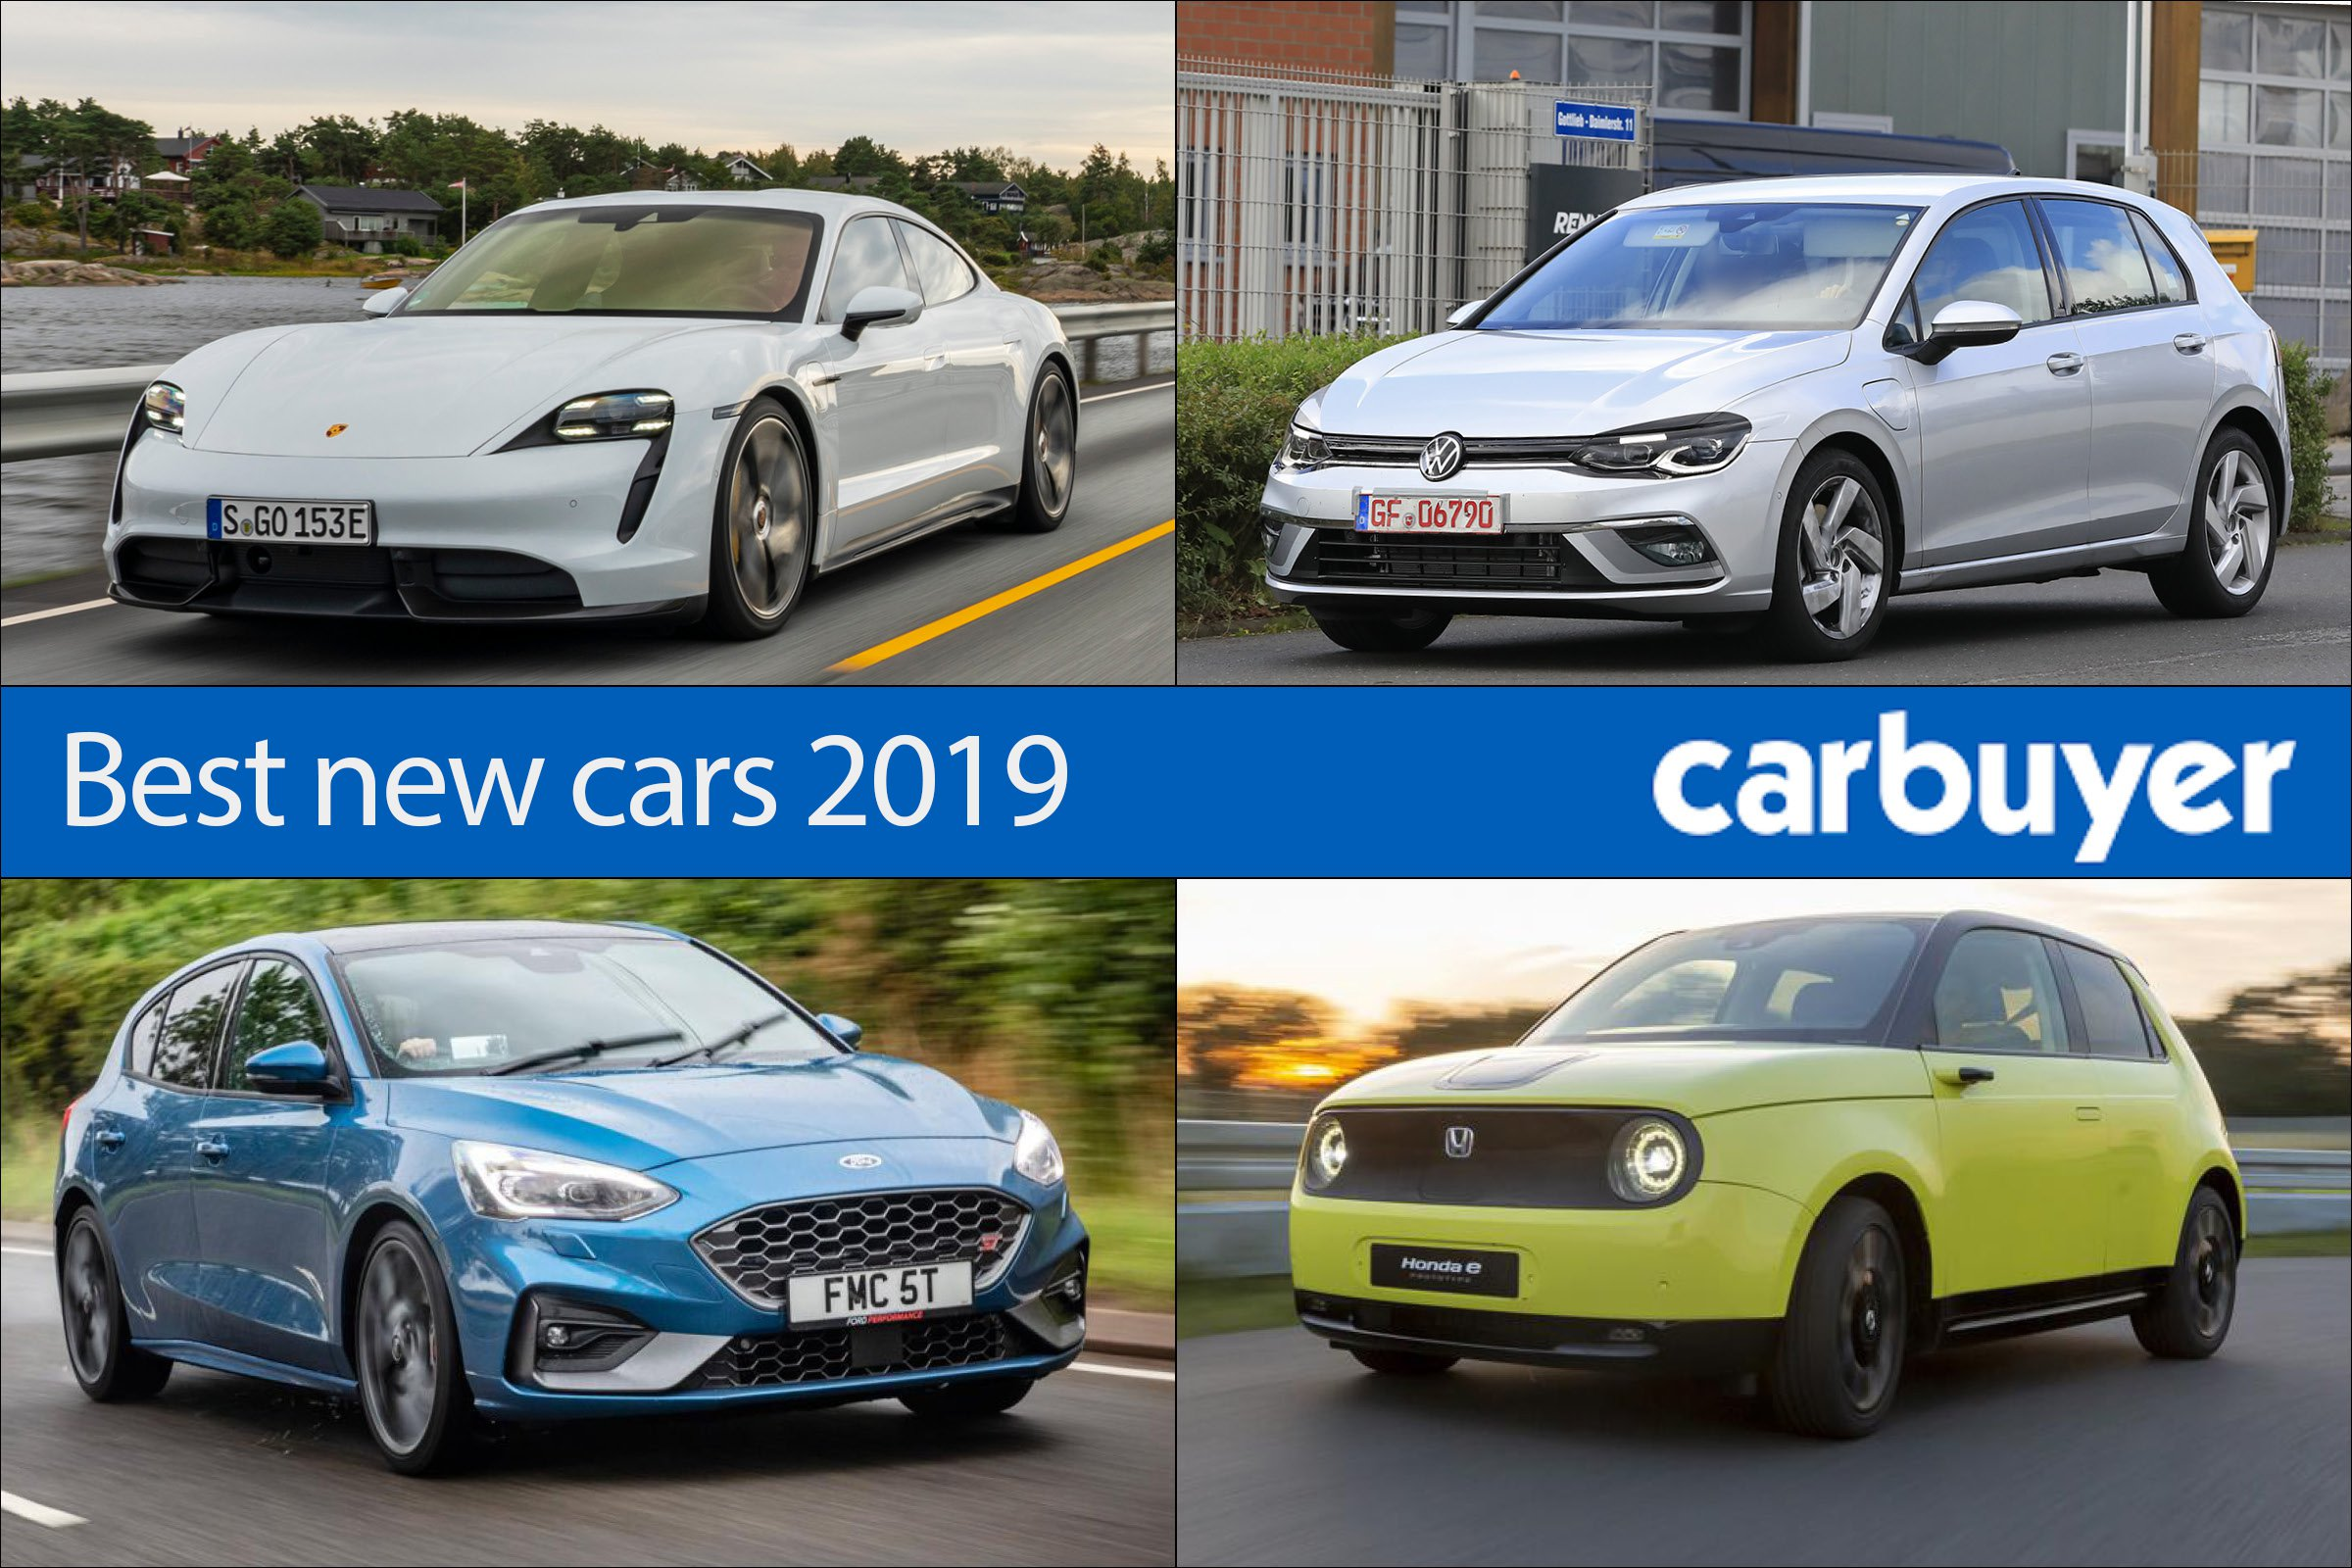car: (49, 924, 1097, 1445), (1279, 147, 2307, 623), (1290, 920, 2259, 1409), (105, 159, 1087, 607)
